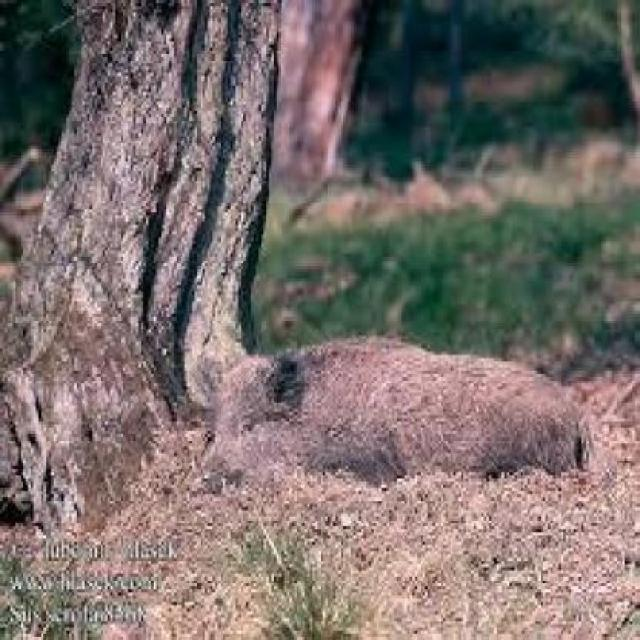wildboar: (183, 322, 615, 527)
